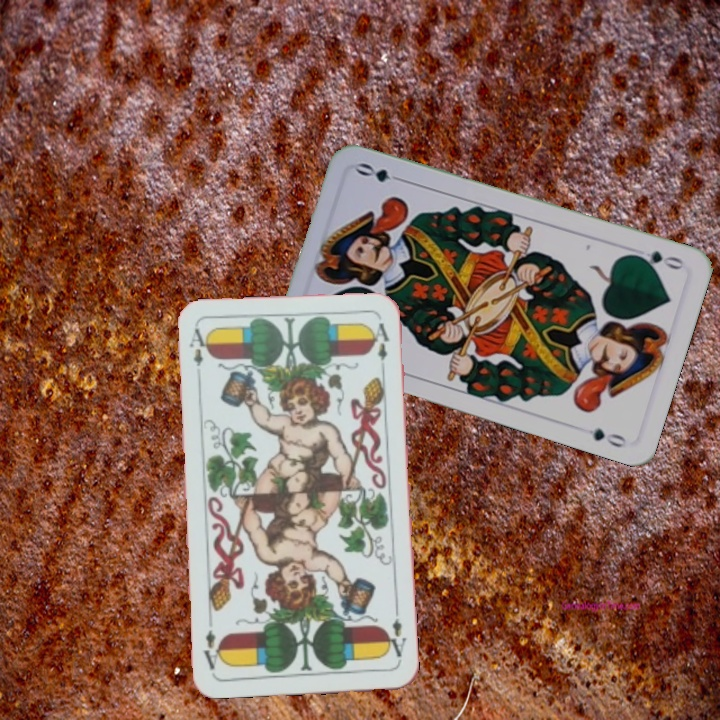EA: (185, 324, 212, 383), (382, 614, 410, 665)
GO: (628, 246, 686, 273)
